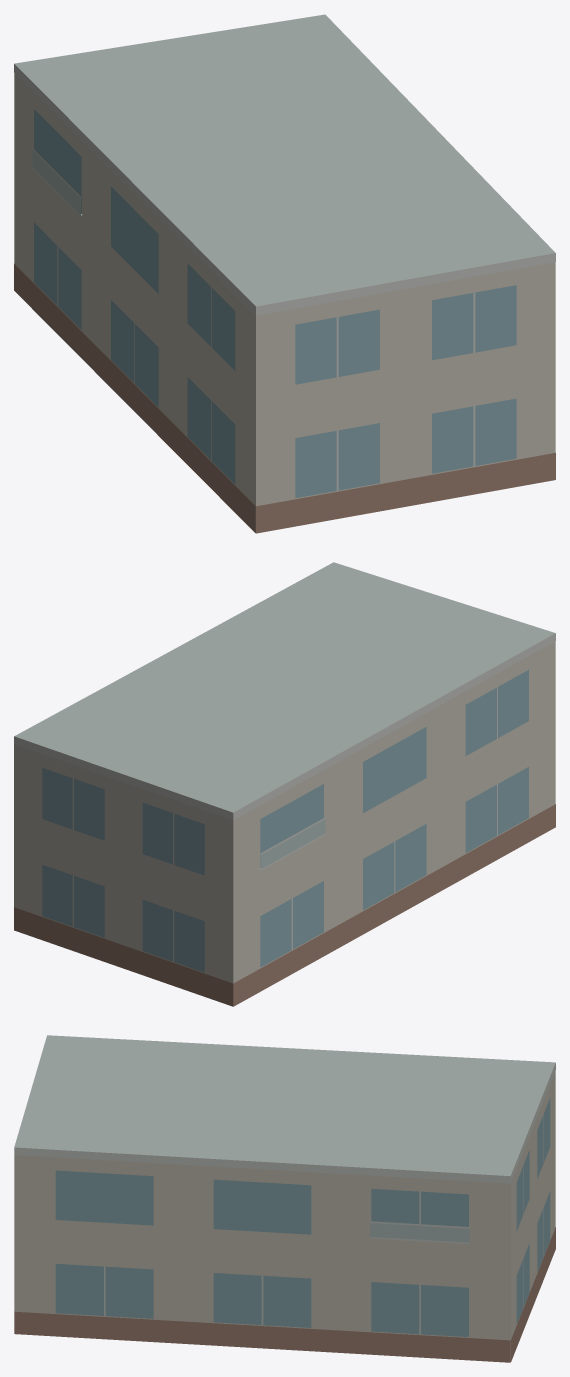
File: survey-upis-32659128.glb
The picture shows the model from 3 angles, top to bottom: view 1: azimuth 30°, elevation 25°; view 2: azimuth 150°, elevation 25°; view 3: azimuth 270°, elevation 25°; orthographic projection. The views are drawn at different scales.
Visible parts, largest first — view 1: survey-upis-32659128.tmp; view 2: survey-upis-32659128.tmp; view 3: survey-upis-32659128.tmp.
Part boxes in pixels (bbox=[...]): survey-upis-32659128.tmp: bbox=[14, 14, 555, 533]; survey-upis-32659128.tmp: bbox=[14, 562, 555, 1006]; survey-upis-32659128.tmp: bbox=[14, 1035, 555, 1362].
Bounding box in the file's own units: 9.9 × 6.1 × 16.06.
